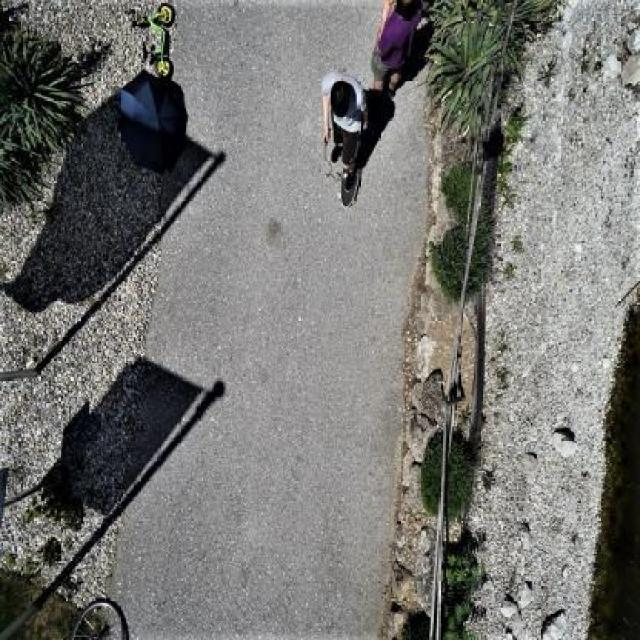Person: (313, 66, 370, 180), (372, 0, 426, 91)
